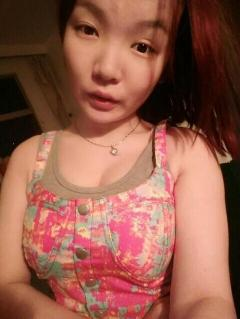sling dress: (22, 121, 176, 319)
